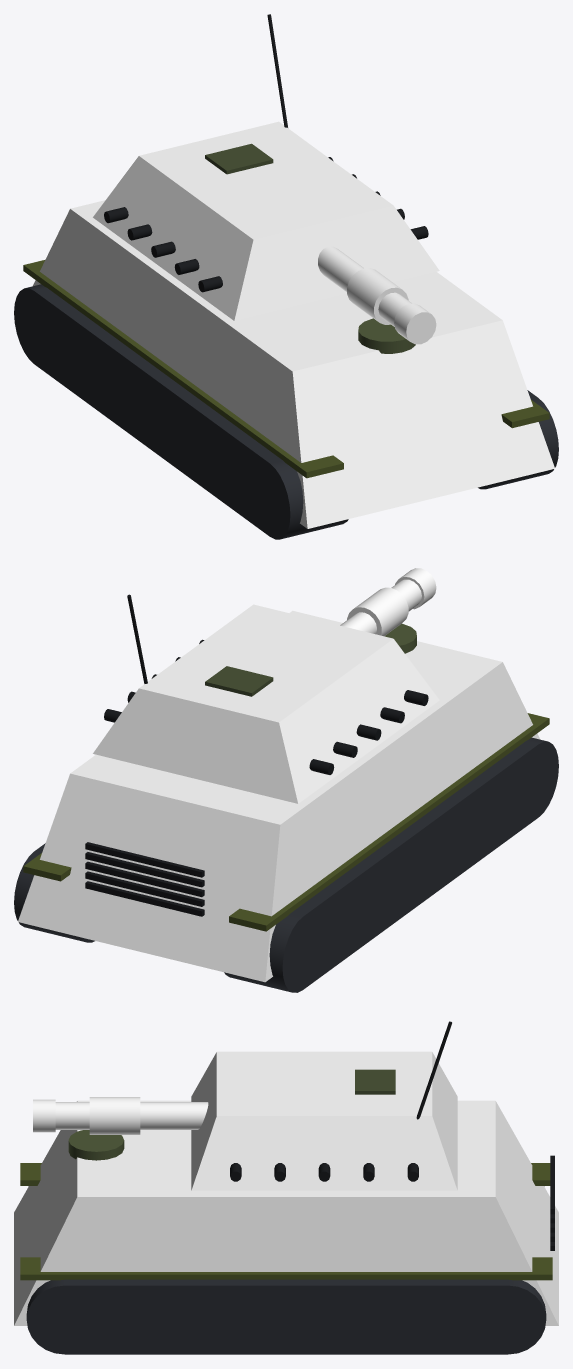
The picture shows the model from 3 angles, top to bottom: view 1: azimuth 30°, elevation 25°; view 2: azimuth 150°, elevation 25°; view 3: azimuth 270°, elevation 25°; orthographic projection. The views are drawn at different scales.
Parts seen in each view (by area): view 1: 车体, 无人炮塔, 左履带, 左挡泥板, 左主动轮.002, 主炮管, 左主动轮.001, 左主动轮, 抽烟器, 驾驶员舱盖, 车长瞄准镜, 炮口装置 (+2 smaller); view 2: 车体, 无人炮塔, 左履带, 左挡泥板, 左主动轮.001, 左主动轮.002, 抽烟器, 车长瞄准镜, 主炮管, 发动机格栅.003, 发动机格栅.004, 发动机格栅.005 (+6 smaller); view 3: 车体, 无人炮塔, 右履带, 右挡泥板, 右主动轮.002, 右主动轮.001, 右主动轮, 主炮管, 抽烟器, 驾驶员舱盖, 车长瞄准镜, 左挡泥板 (+2 smaller).
Part boxes in pixels (x1=…): 车体: x1=33, y1=200, x2=554, y2=528; 无人炮塔: x1=93, y1=121, x2=439, y2=320; 左履带: x1=34, y1=288, x2=282, y2=536; 左挡泥板: x1=23, y1=260, x2=343, y2=478; 左主动轮.002: x1=250, y1=460, x2=348, y2=539; 主炮管: x1=318, y1=246, x2=433, y2=341; 左主动轮.001: x1=14, y1=284, x2=54, y2=365; 左主动轮: x1=132, y1=374, x2=172, y2=445; 抽烟器: x1=347, y1=268, x2=408, y2=324; 驾驶员舱盖: x1=358, y1=318, x2=415, y2=353; 车长瞄准镜: x1=205, y1=143, x2=273, y2=174; 炮口装置: x1=394, y1=303, x2=436, y2=344; 车体: x1=18, y1=610, x2=540, y2=982; 无人炮塔: x1=93, y1=604, x2=439, y2=803; 左履带: x1=290, y1=741, x2=538, y2=989; 左挡泥板: x1=229, y1=713, x2=549, y2=931; 左主动轮.001: x1=224, y1=914, x2=322, y2=992; 左主动轮.002: x1=518, y1=737, x2=558, y2=819; 抽烟器: x1=347, y1=587, x2=408, y2=636; 车长瞄准镜: x1=205, y1=666, x2=273, y2=696; 主炮管: x1=340, y1=579, x2=421, y2=634; 发动机格栅.003: x1=85, y1=861, x2=204, y2=897; 发动机格栅.004: x1=85, y1=852, x2=204, y2=887; 发动机格栅.005: x1=85, y1=842, x2=204, y2=877; 车体: x1=14, y1=1100, x2=558, y2=1325; 无人炮塔: x1=191, y1=1051, x2=457, y2=1190; 右履带: x1=64, y1=1279, x2=508, y2=1354; 右挡泥板: x1=20, y1=1257, x2=552, y2=1280; 右主动轮.002: x1=26, y1=1279, x2=102, y2=1354; 右主动轮.001: x1=470, y1=1279, x2=546, y2=1354; 右主动轮: x1=248, y1=1280, x2=324, y2=1354; 主炮管: x1=55, y1=1102, x2=208, y2=1129; 抽烟器: x1=89, y1=1097, x2=140, y2=1134; 驾驶员舱盖: x1=68, y1=1130, x2=124, y2=1160; 车长瞄准镜: x1=355, y1=1069, x2=395, y2=1094; 左挡泥板: x1=20, y1=1163, x2=550, y2=1185.
Bounding box in the file's own units: 2.3 × 2.64 × 4.3.
Materials: 21 (1 with a texture image).
